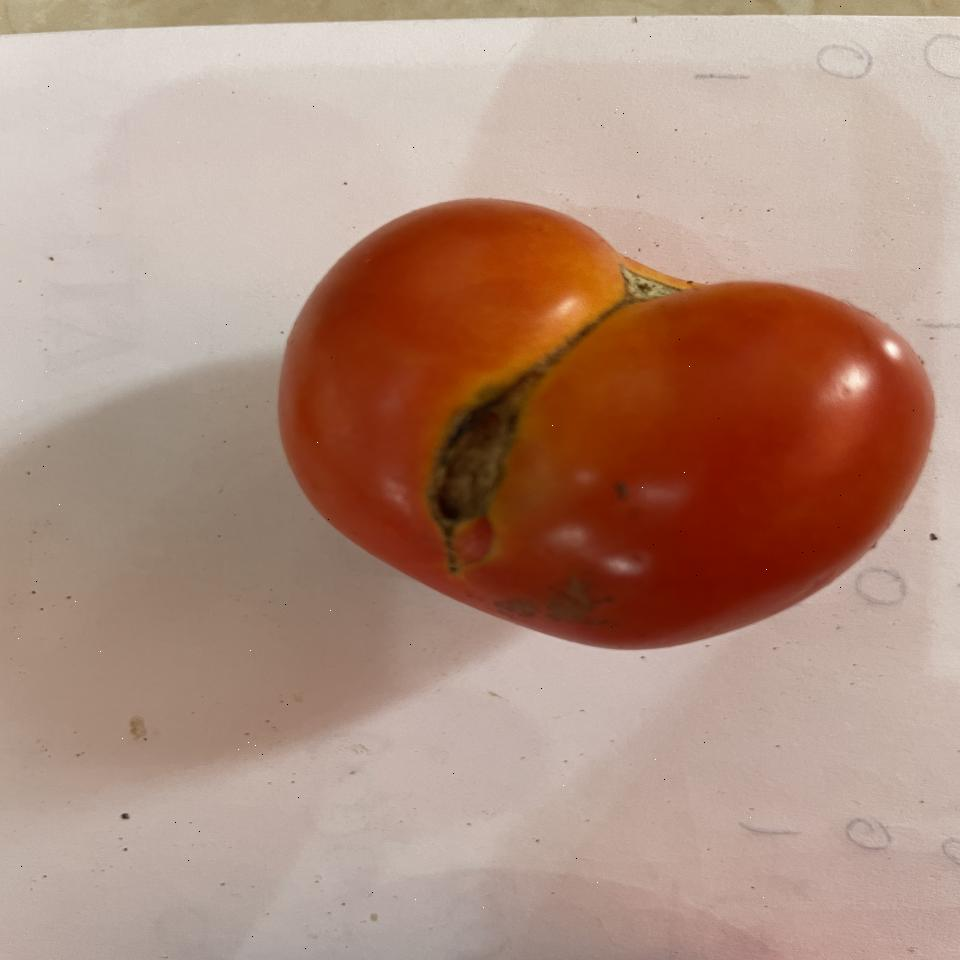Cracking: (407, 269, 657, 566)
